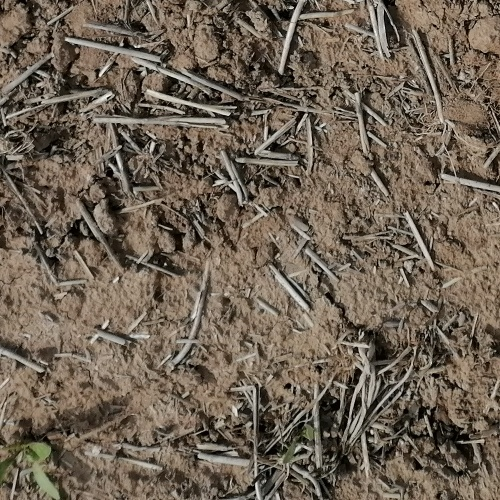beet: (0, 442, 60, 500)
